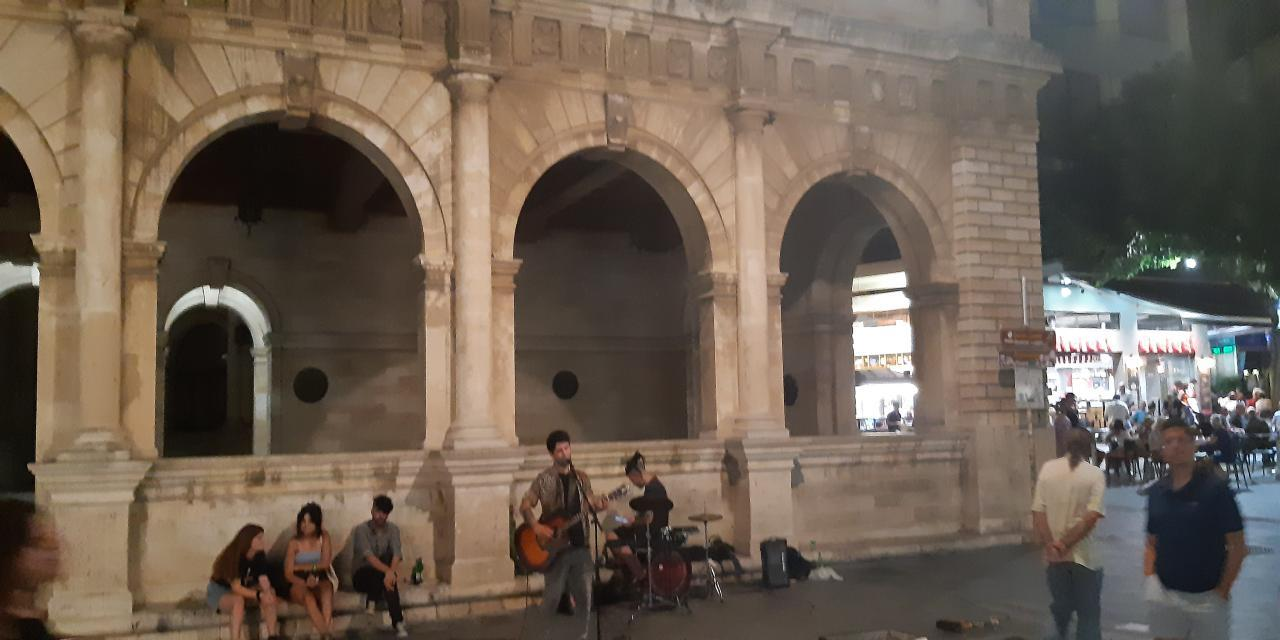Loggia: (1, 1, 1068, 640)
